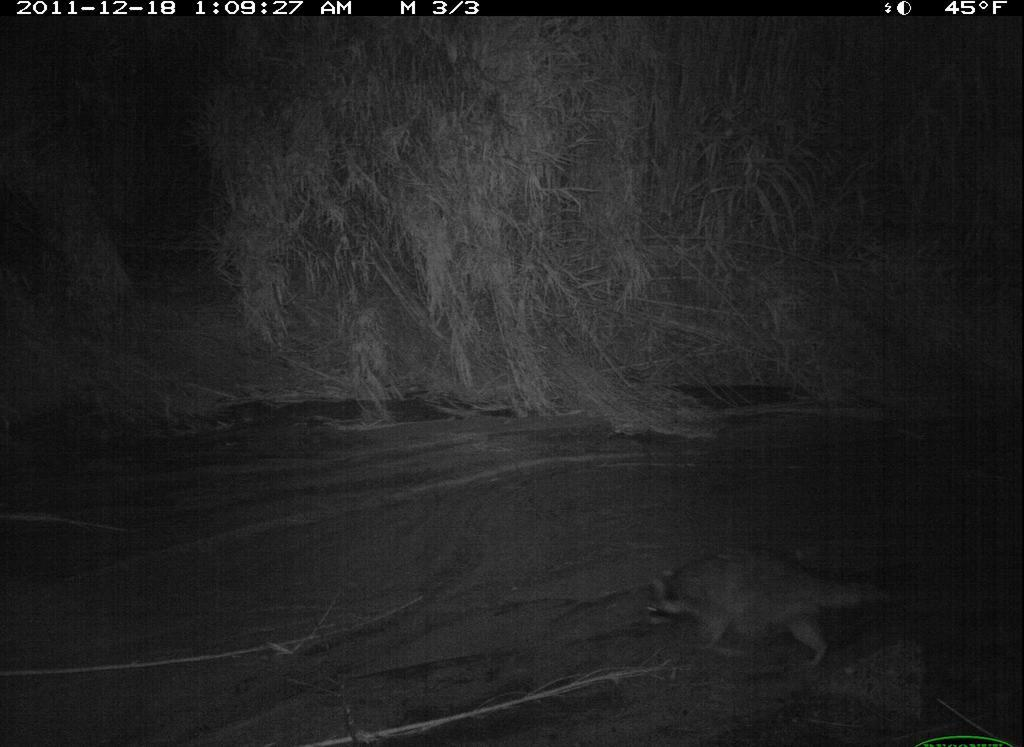raccoon: (634, 533, 902, 677)
